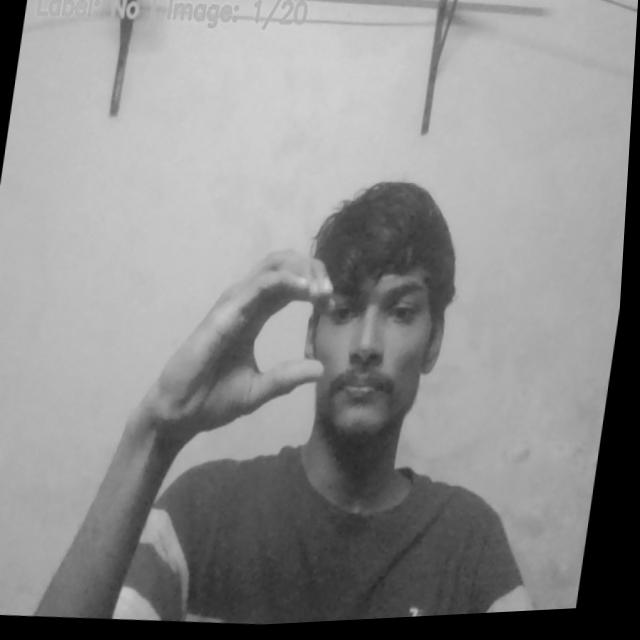No: (170, 241, 347, 450)
